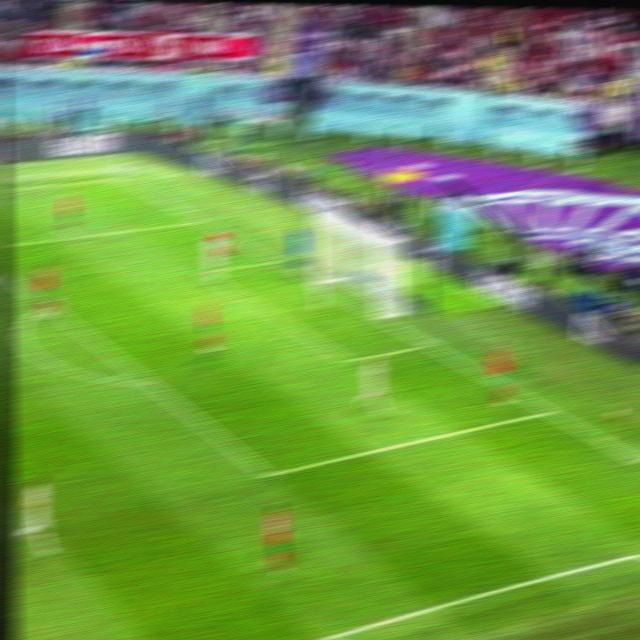bigarea_bottom_inner: (258, 465, 280, 486)
bigarea_top_outter: (191, 216, 208, 226)
bottom_arc_area_intersection: (141, 378, 163, 392)
corner: (111, 178, 132, 183)
smallarea_bottom_inner: (340, 352, 360, 368)
smallarea_bottom_outter: (421, 340, 437, 351)
smallarea_top_inner: (194, 265, 213, 280), (541, 405, 559, 420)
smallarea_top_outter: (266, 256, 284, 266)
top_arc_area_intersection: (31, 297, 63, 320)
